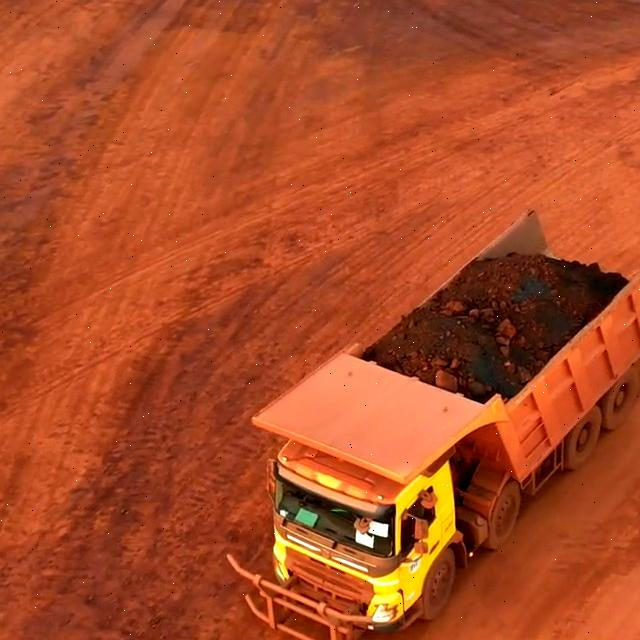Dumper truck: (270, 406, 441, 640)
